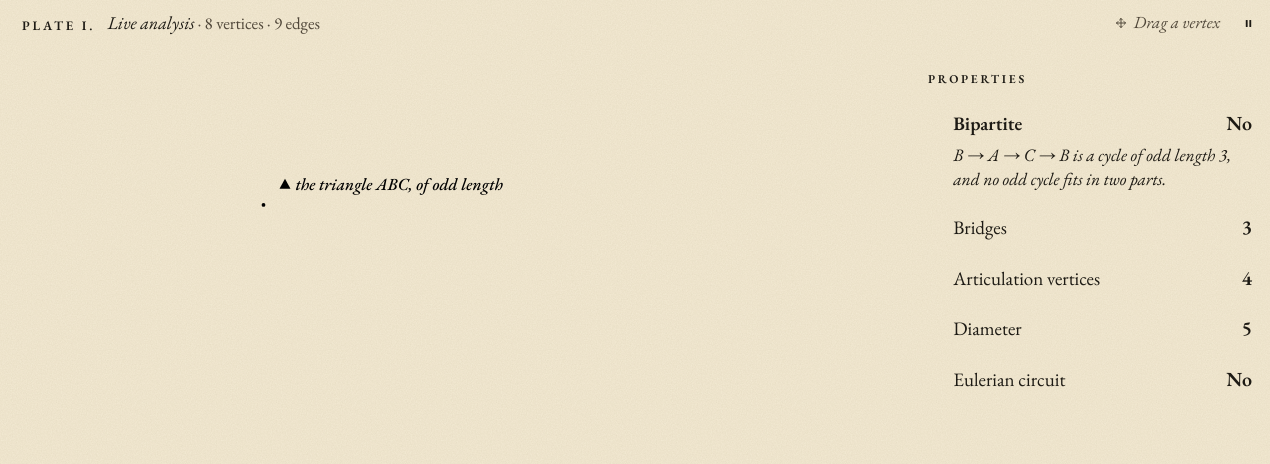
Scenario: the live demo › writes notes on the plate for the property on show, out of reach of assistive technology
Expected: the icon with class "gz-demo-notes" reads "the triangle ABC, of odd length", [296, 173, 503, 195]
Click the button "Bridges 3".
click(980, 228)  # box [928, 203, 1252, 253]
Wait 50 ms
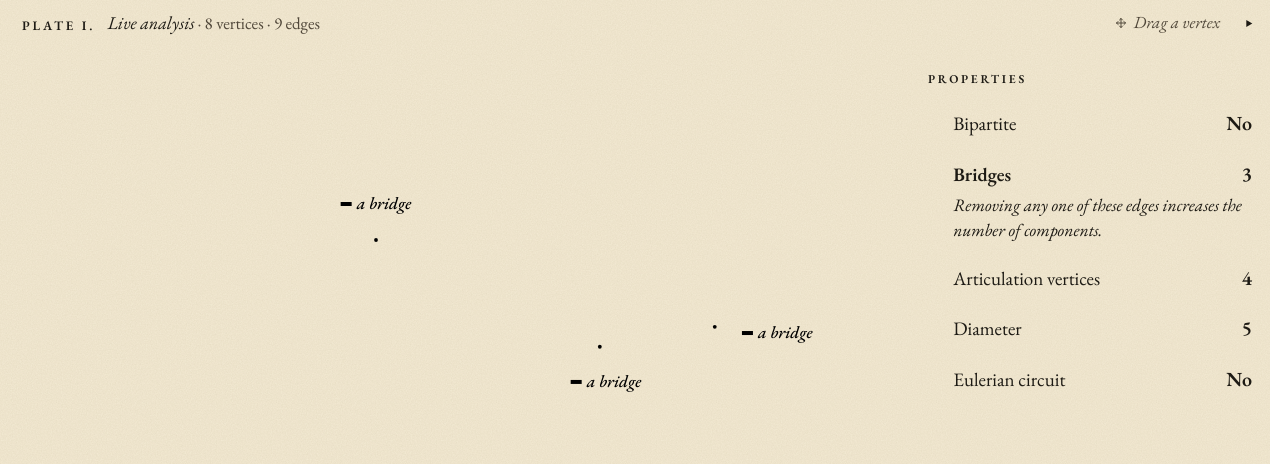
Now the icon with class "gz-demo-notes" has attribute data-ink="blue"
Click the button "Diameter 5".
click(987, 329)  # box [928, 304, 1252, 354]
Wait 50 ms
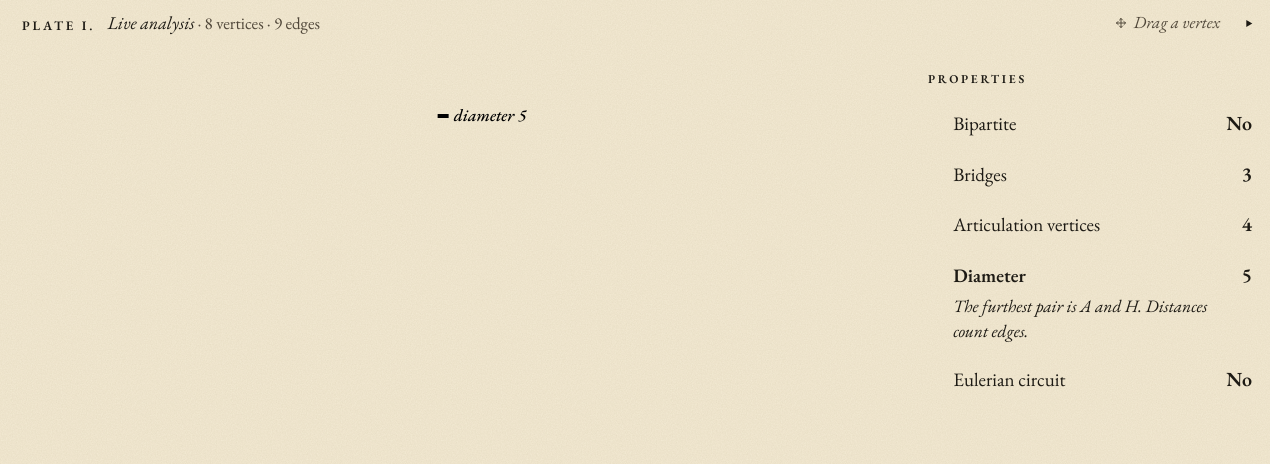
Now the icon with class "gz-demo-notes" reads "diameter 5", box [454, 104, 526, 126]
